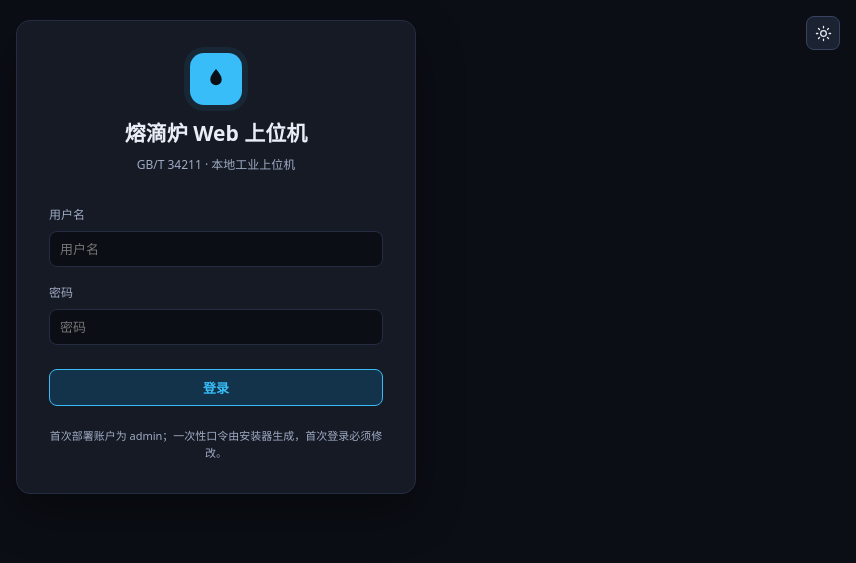
Test: 输入校验失败时给出面向操作员的提示，不回显后端校验细节
Type "面条" into the field with id "login-username" at {"x": 216, "y": 249}, box [49, 231, 383, 267]
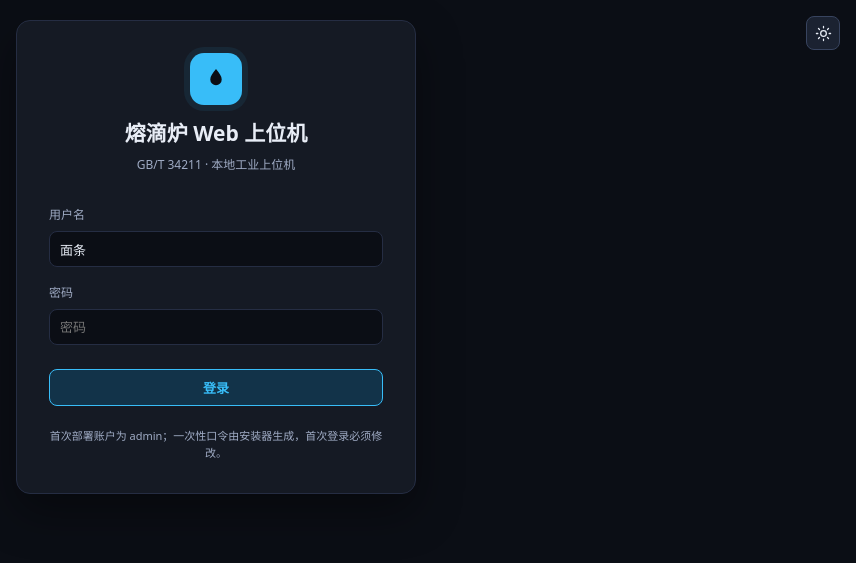
Type "whatever-password" into the password field with id "login-password" at {"x": 216, "y": 327}, box [49, 309, 383, 345]
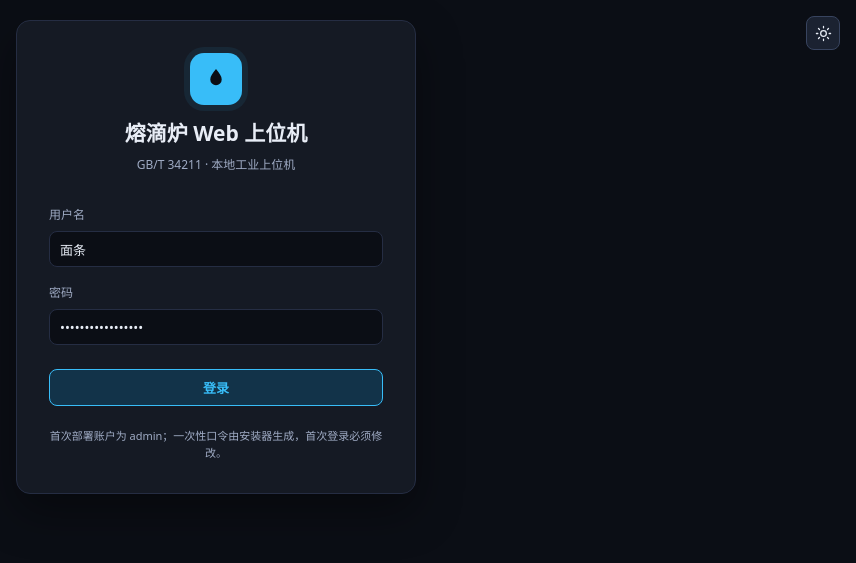
Submit the form, box [16, 20, 416, 494]
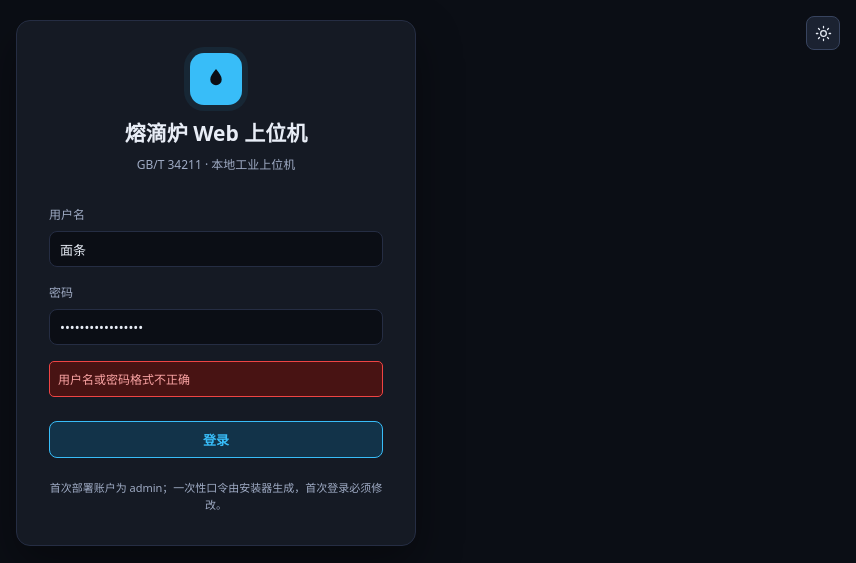
Expected: the text with class "login-error" reads "用户名或密码格式不正确", [58, 371, 190, 388]
